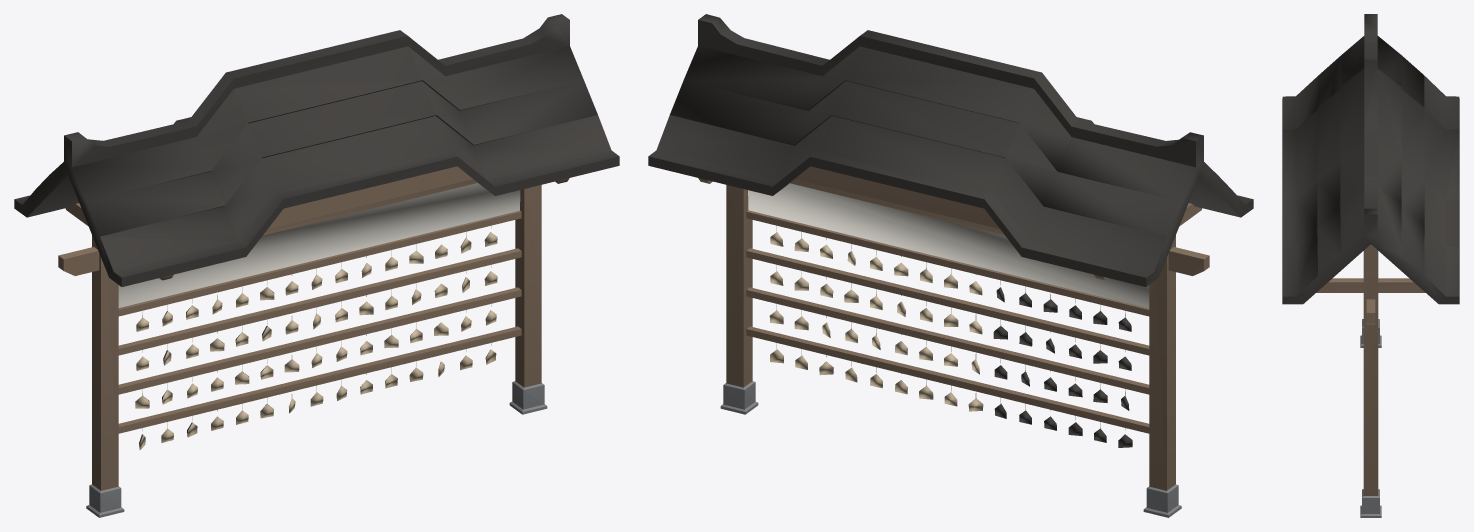
File: jp_ema_1.glb
The picture shows the model from 3 angles, left to right: view 1: azimuth 30°, elevation 25°; view 2: azimuth 150°, elevation 25°; view 3: azimuth 270°, elevation 25°; orthographic projection. The views are drawn at different scales.
Visible parts, largest first — view 1: jp_ema_1; view 2: jp_ema_1; view 3: jp_ema_1.
Part boxes in pixels (x1,y1,x2,y2): jp_ema_1: (14,14,619,517); jp_ema_1: (648,14,1253,517); jp_ema_1: (1282,14,1459,517).
Bounding box in the file's own units: 4.1 × 3.1 × 1.5.
